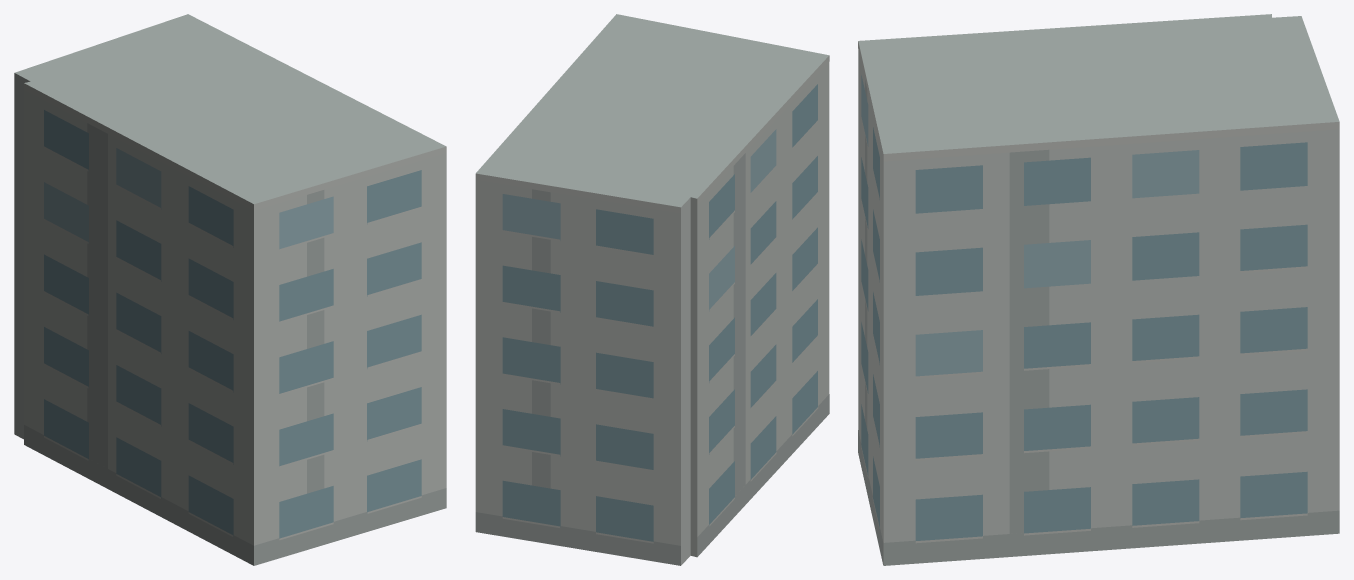
File: survey-upis-32478201.glb
3 views of the same model, side by side, from view 1: azimuth 30°, elevation 25°; view 2: azimuth 150°, elevation 25°; view 3: azimuth 270°, elevation 25° (orthographic). The views are drawn at different scales.
Parts seen in each view (by area): view 1: survey-upis-32478201.tmp; view 2: survey-upis-32478201.tmp; view 3: survey-upis-32478201.tmp.
Part boxes in pixels (left/top/right/bottom): survey-upis-32478201.tmp: left=14, top=14, right=446, bottom=565; survey-upis-32478201.tmp: left=475, top=14, right=829, bottom=565; survey-upis-32478201.tmp: left=858, top=14, right=1339, bottom=565.
Bounding box in the file's own units: 9.85 × 13.5 × 14.31.
